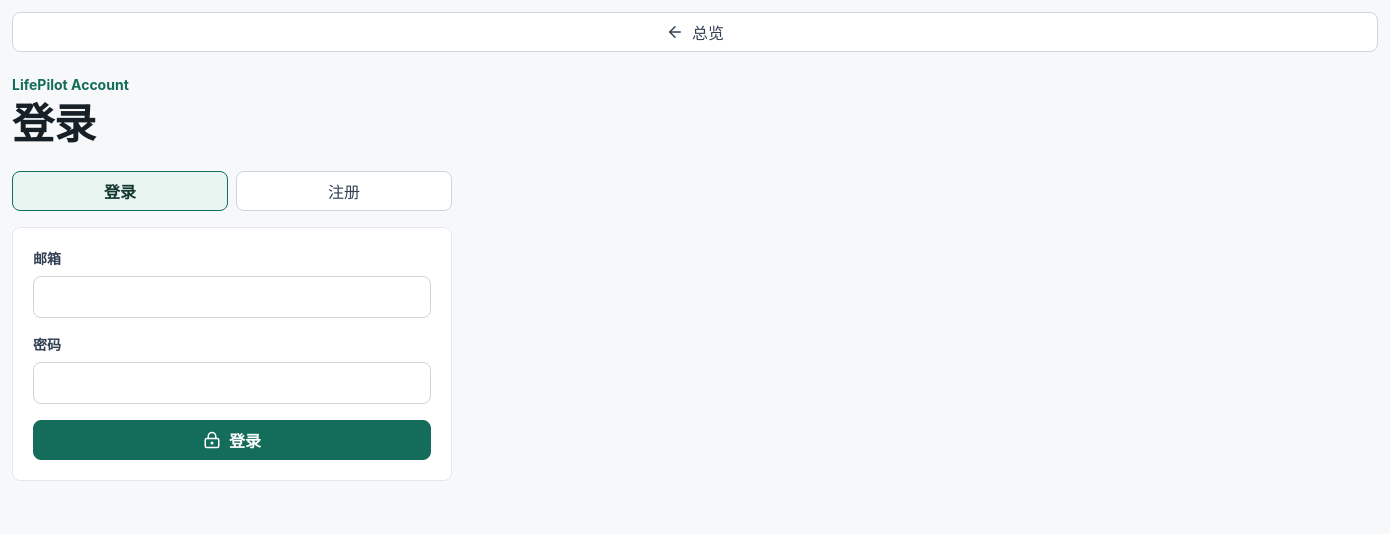
AuthView › displays error message when login fails
Step 1. Type "user@example.com" into the field labelled "邮箱" → (232, 297), box [33, 276, 431, 318]
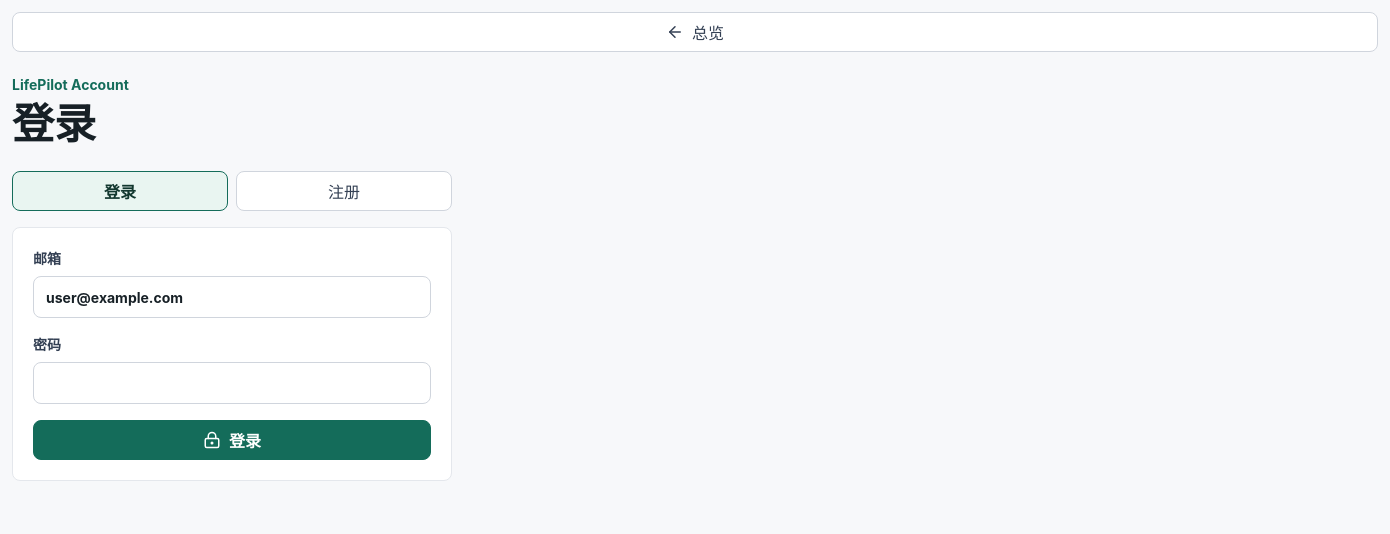
Step 2. Type "wrongpassword" into the password field labelled "密码" → (232, 383), box [33, 362, 431, 404]
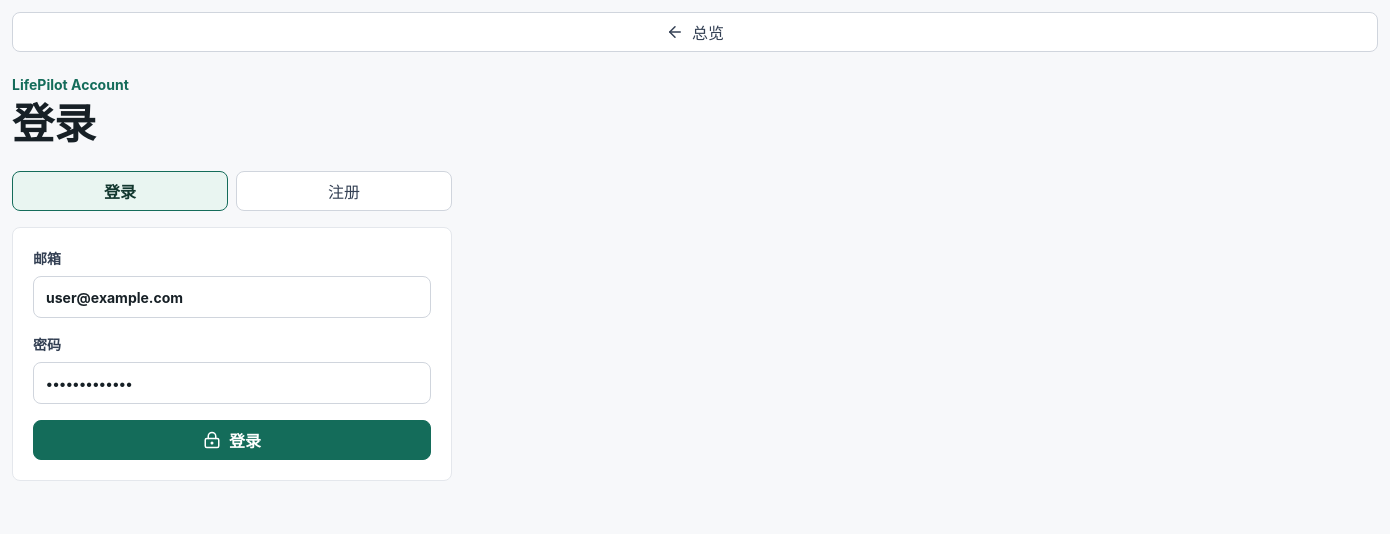
Step 3. Submit the form, box [12, 227, 452, 481]
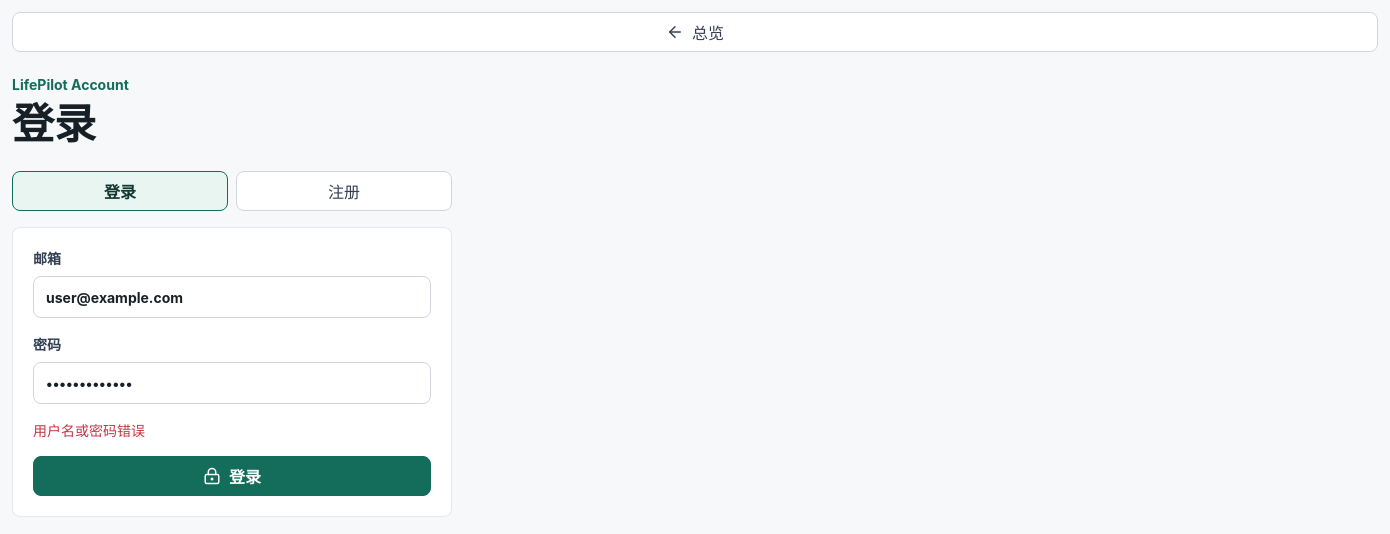
Expected: the text with class "form-error" reads "用户名或密码错误", [33, 422, 145, 439]
